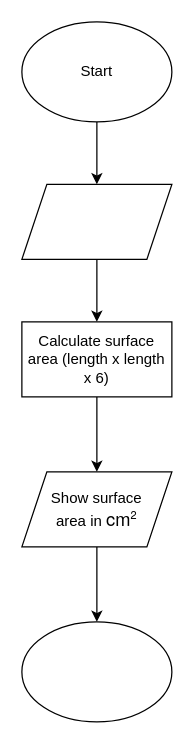
Some shapes in this 194 by 744 pixel diagram are drawn without their labels. Each missing label, with the centre of its shape:
Get length (in cm): [96,221]
Stop: [96,671]
